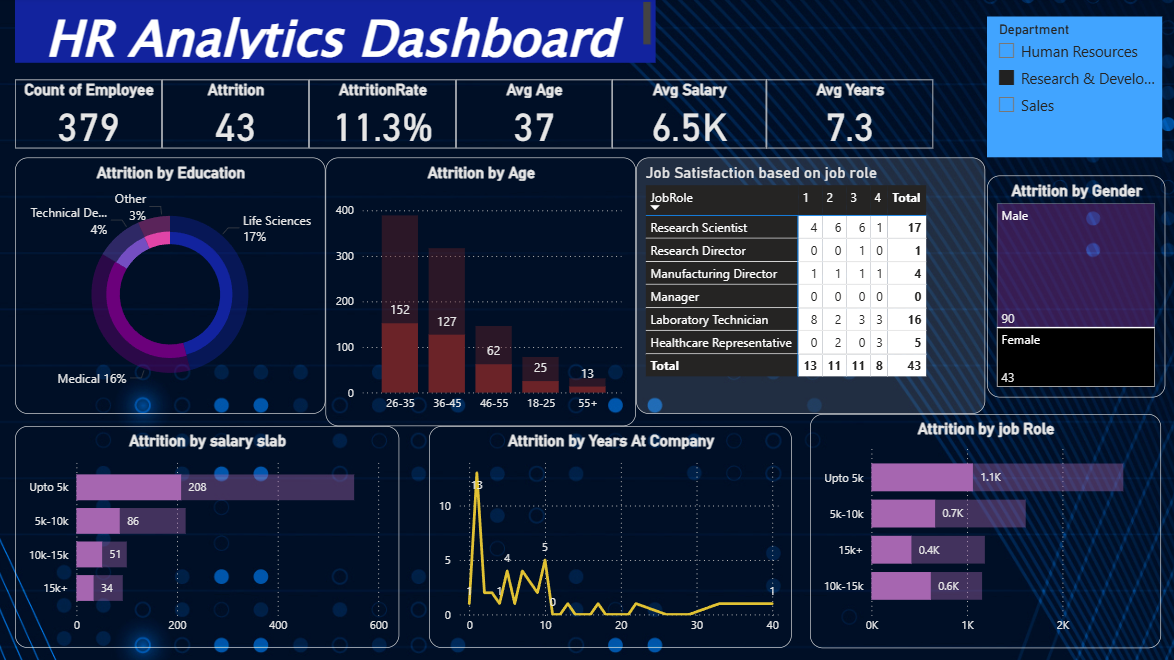

What the dashboard file says about the page in this screenshot:
{"tool":"tableau","page":{"name":"HR Analytic Dashboard","canvas":[1580,900],"ordinal":0},"visuals":[{"type":"image","param":"C:/Users/mywor/Downloads/artistic-blurry-colorful-wallpaper-background.jpg","box":[8,8,1564,884]},{"type":"filter","title":"kpi","param":"[federated.1amnye11tyh70z11bqz9t0d10kqy].[none:Education:nk]","box":[1074,70,218,61]},{"type":"text","box":[50,76,1090,63]},{"type":"worksheet","title":"kpi","mark":"Automatic","box":[16,135,1208,166]},{"type":"worksheet","title":"Attrition by Gender","mark":"Automatic","rows":["Gender"],"cols":["Calculation_0203467930775552","Calculation_0203467930775552"],"box":[1172,138,372,132]},{"type":"worksheet","title":"Department wise Attrition","mark":"Pie","box":[28,304,468,293]},{"type":"worksheet","title":"No of Employee Age group","mark":"Automatic","rows":["Employee Count"],"cols":["Age (bin)"],"box":[441,320,543,283]},{"type":"parameter","param":"[Parameters].[Parameter 1]","box":[819,322,160,75]},{"type":"worksheet","title":"Job Satisfaction Rating","mark":"Square","rows":["Job Role"],"cols":["Job Satisfaction"],"box":[1009,342,543,277]},{"type":"legend","title":"Department wise Attrition","param":"[federated.1amnye11tyh70z11bqz9t0d10kqy].[none:Department:nk]","box":[23,491,117,81]},{"type":"worksheet","title":"Education field by Attrition","mark":"Automatic","rows":["Education Field"],"cols":["Calculation_0203467930775552"],"box":[18,593,499,294]},{"type":"worksheet","title":"Attrition by Gender by Age Group","mark":"Pie","rows":["Calculation_1066310091857923","Calculation_1066310091857923"],"cols":["CF_age band"],"box":[519,648,1031,224]},{"type":"legend","title":"Attrition by Gender by Age Group","param":"[federated.1amnye11tyh70z11bqz9t0d10kqy].[none:Gender:nk]","box":[1103,656,366,33]}]}

Visuals, with their boxes in screenshot pixels (x1, y1, x2, y2), scaled from the page's 1580x900 canvas onto the 1174x660 screenshot:
image: (6, 6, 1168, 654)
"kpi" filter: (798, 51, 960, 96)
text: (37, 56, 847, 102)
"kpi" worksheet: (12, 99, 909, 221)
"Attrition by Gender" worksheet: (871, 101, 1147, 198)
"Department wise Attrition" worksheet (Pie marks): (21, 223, 369, 438)
"No of Employee Age group" worksheet: (328, 235, 731, 442)
parameter: (609, 236, 727, 291)
"Job Satisfaction Rating" worksheet (Square marks): (750, 251, 1153, 454)
"Department wise Attrition" legend: (17, 360, 104, 419)
"Education field by Attrition" worksheet: (13, 435, 384, 650)
"Attrition by Gender by Age Group" worksheet (Pie marks): (386, 475, 1152, 639)
"Attrition by Gender by Age Group" legend: (820, 481, 1092, 505)
